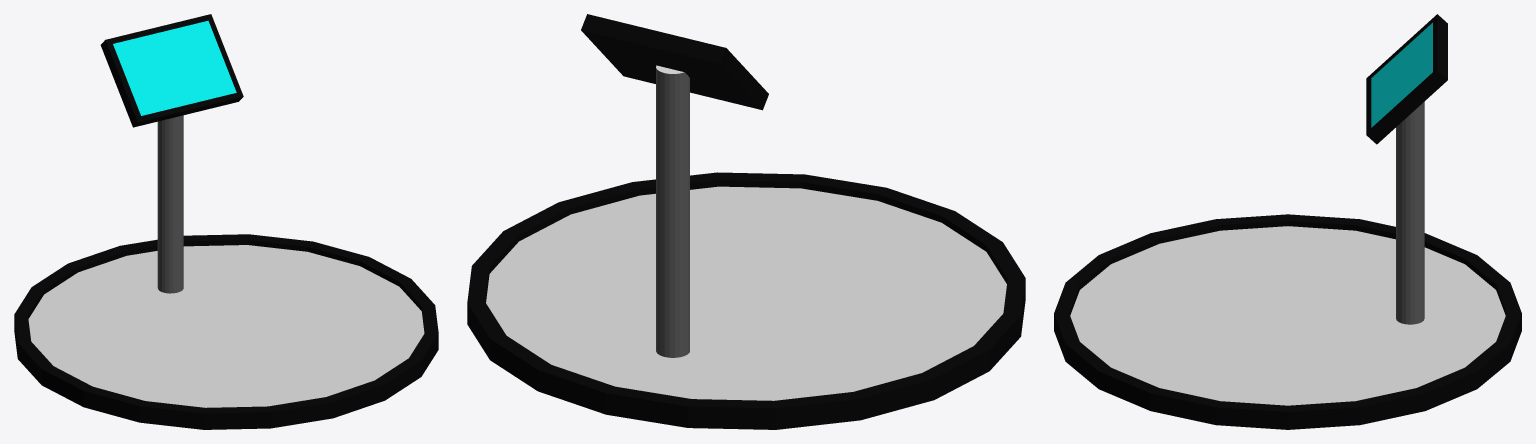
File: CatalystPlatform 1.fbx
3 renders of one model, left to right at view 1: azimuth 30°, elevation 25°; view 2: azimuth 150°, elevation 25°; view 3: azimuth 270°, elevation 25°, orthographic. The views are drawn at different scales.
Visible parts, largest first — view 1: pCube4; view 2: pCube4; view 3: pCube4.
Part boxes in pixels (x1,y1,x2,y2): pCube4: (14,14,438,429); pCube4: (467,14,1025,429); pCube4: (1054,14,1521,429).
Size of the model in its own units: 4.65 by 3.2 by 4.65.
